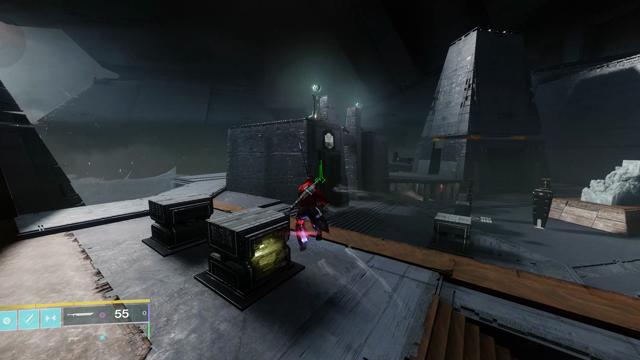commune: (325, 133, 334, 149)
kill: (440, 184, 443, 192)
